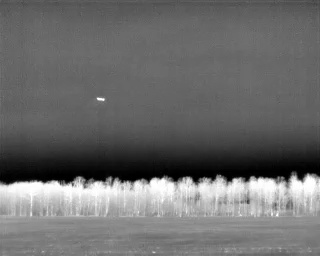DRONE: (93, 93, 109, 106)
